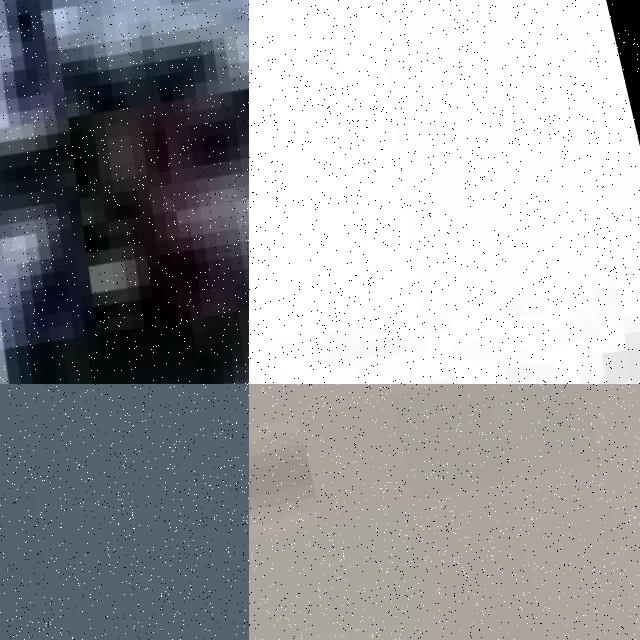0: (0, 0, 249, 384)
drone: (249, 0, 640, 384), (0, 384, 249, 640)
